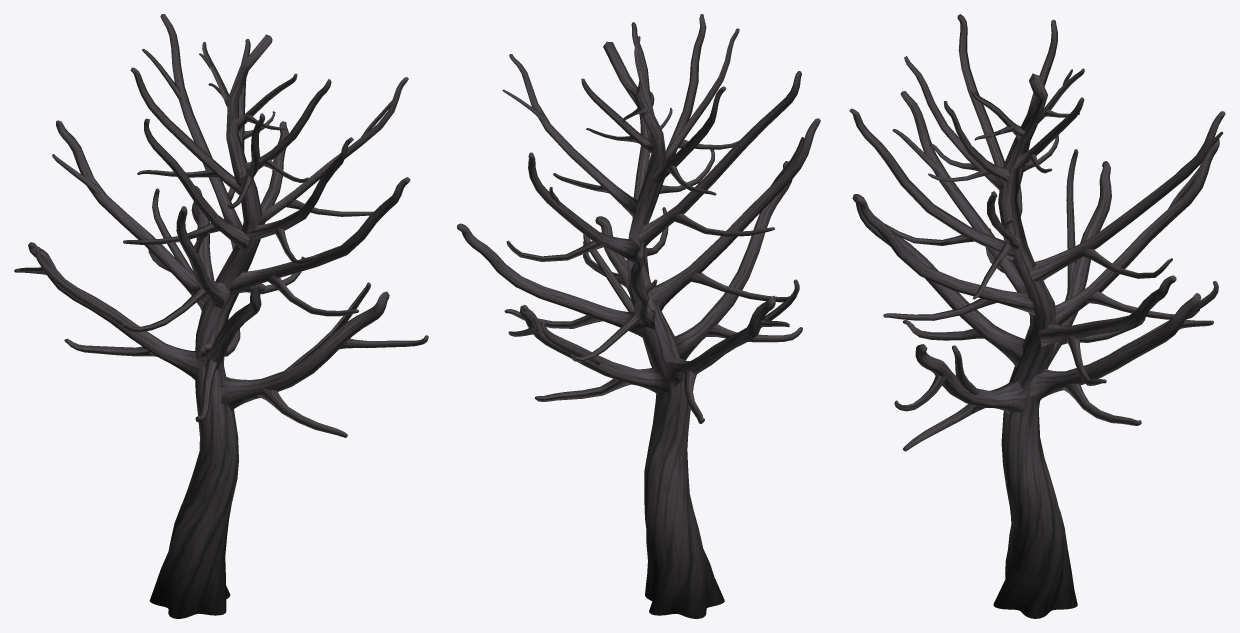
Rendered from deadtree_1.glb.
3 renders of one model, left to right at view 1: azimuth 30°, elevation 25°; view 2: azimuth 150°, elevation 25°; view 3: azimuth 270°, elevation 25°, orthographic. The views are drawn at different scales.
Visible parts, largest first — view 1: DeadTree_1; view 2: DeadTree_1; view 3: DeadTree_1.
Part boxes in pixels (bbox=[...]): DeadTree_1: bbox=[14, 14, 428, 618]; DeadTree_1: bbox=[457, 14, 820, 618]; DeadTree_1: bbox=[849, 14, 1225, 618].
Bounding box in the file's own units: 6.15 × 9.5 × 5.75.
Materials: 1 (1 with a texture image).
